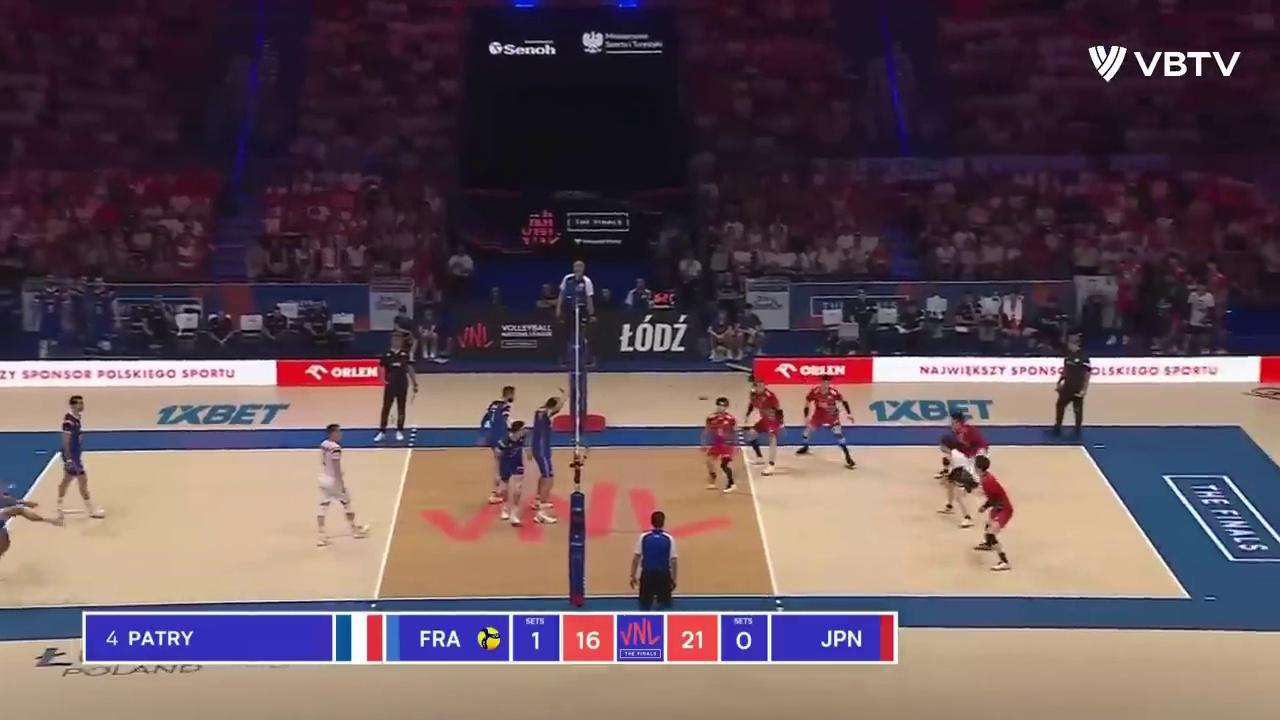ball: (697, 393, 710, 403)
